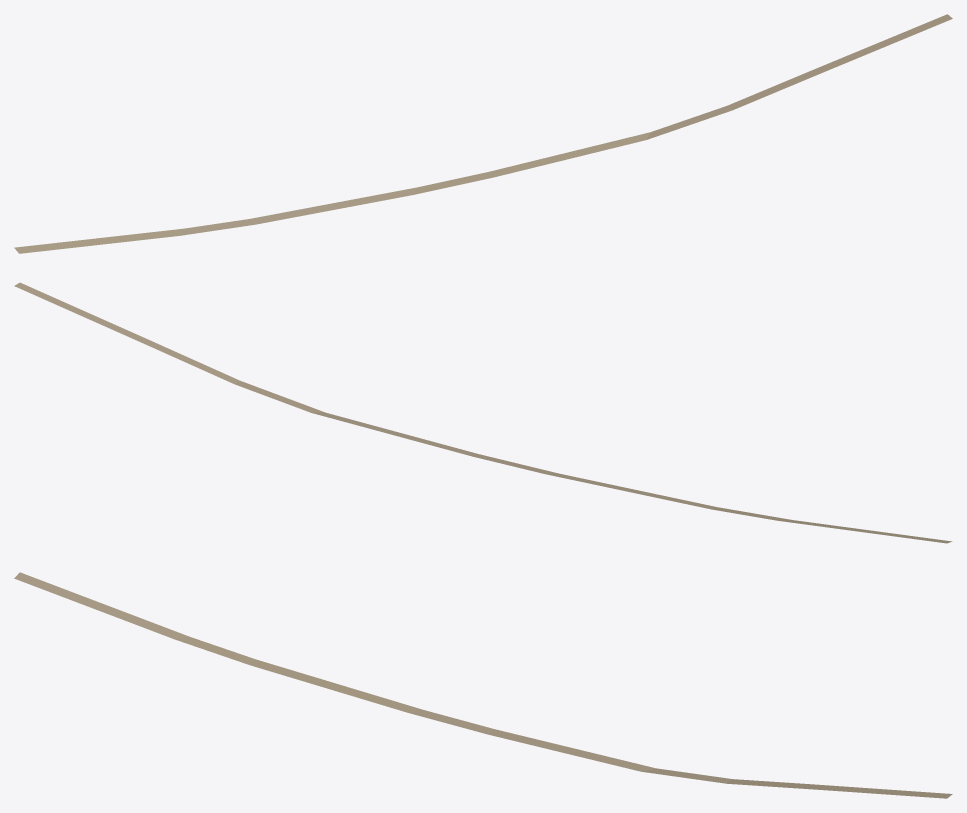
The model's file is farm_-9_10_track.glb.
The picture shows the model from 3 angles, top to bottom: view 1: azimuth 30°, elevation 25°; view 2: azimuth 150°, elevation 25°; view 3: azimuth 330°, elevation 25°; orthographic projection. The views are drawn at different scales.
Parts seen in each view (by area): view 1: geometry_0; view 2: geometry_0; view 3: geometry_0.
Boxes of the visible parts, x1,y1,x2,y2 form: geometry_0: (14,14,952,253); geometry_0: (14,282,952,543); geometry_0: (14,572,952,798).
Bounding box in the file's own units: 313 × 17.2 × 10.32.
